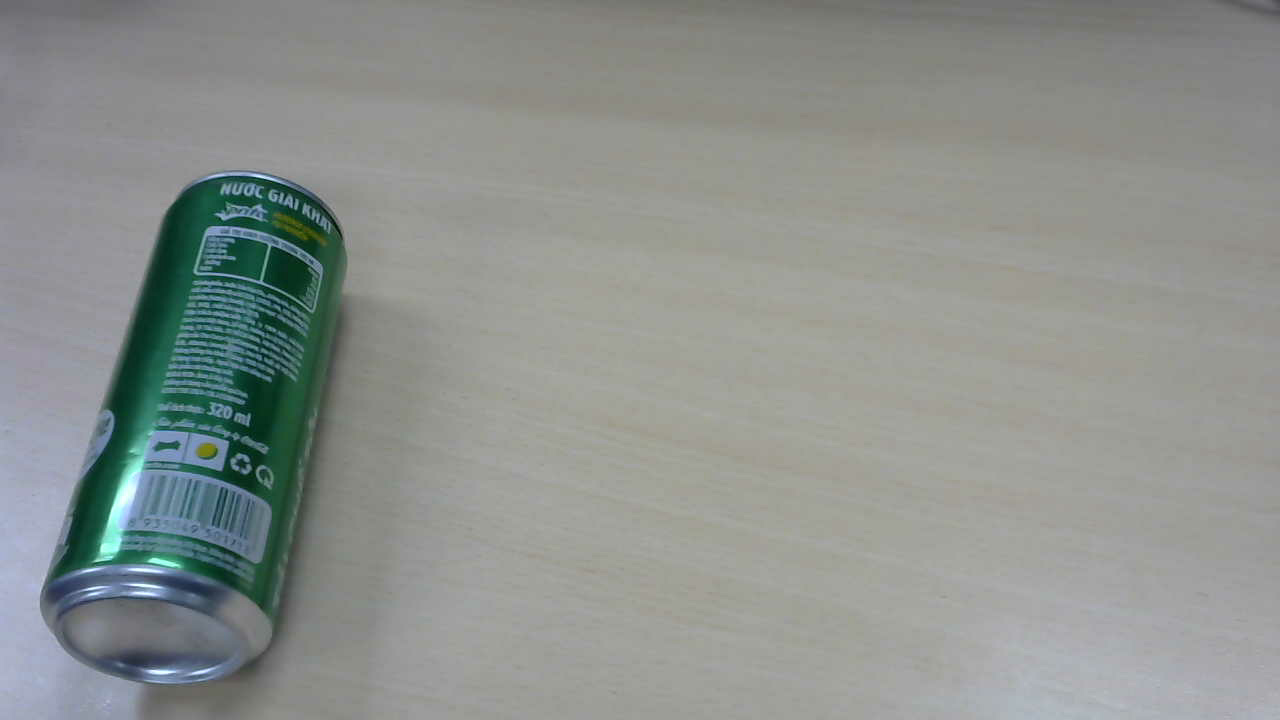Sprite: (43, 179, 354, 689)
